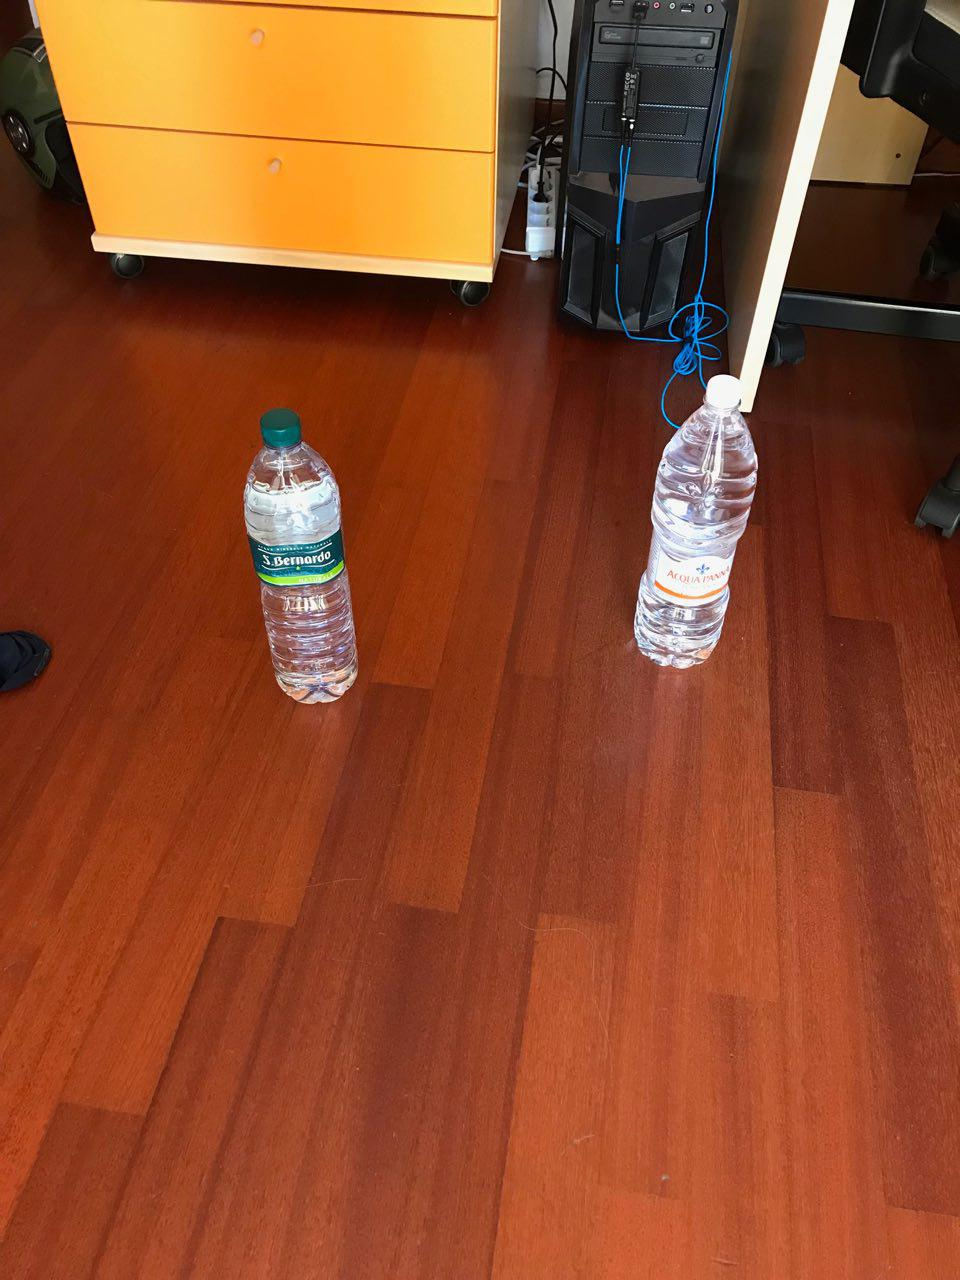san_bernardo: (242, 407, 360, 705)
